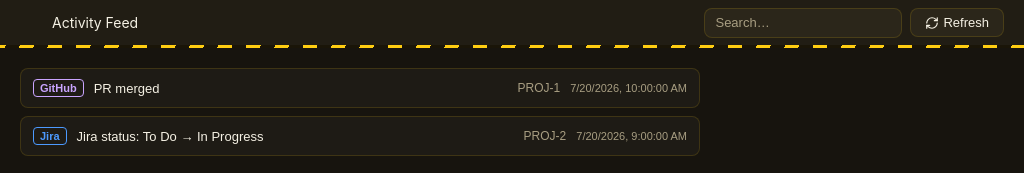
Test: ActivityFeedPage › filters the feed to contexts matching the search (same logic as contexts)
Expected: the text "PR merged" is shown, [94,80,160,96]
Type "referral" into the field with placeholder "Search…" at (804, 22), box [704,8,902,38]
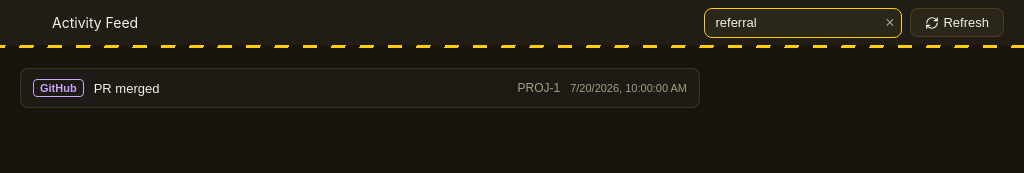
Expected: the text "PR merged" is shown, [94,80,160,96]
Expected: the button "Jira status: To Do → In Progress" is gone
